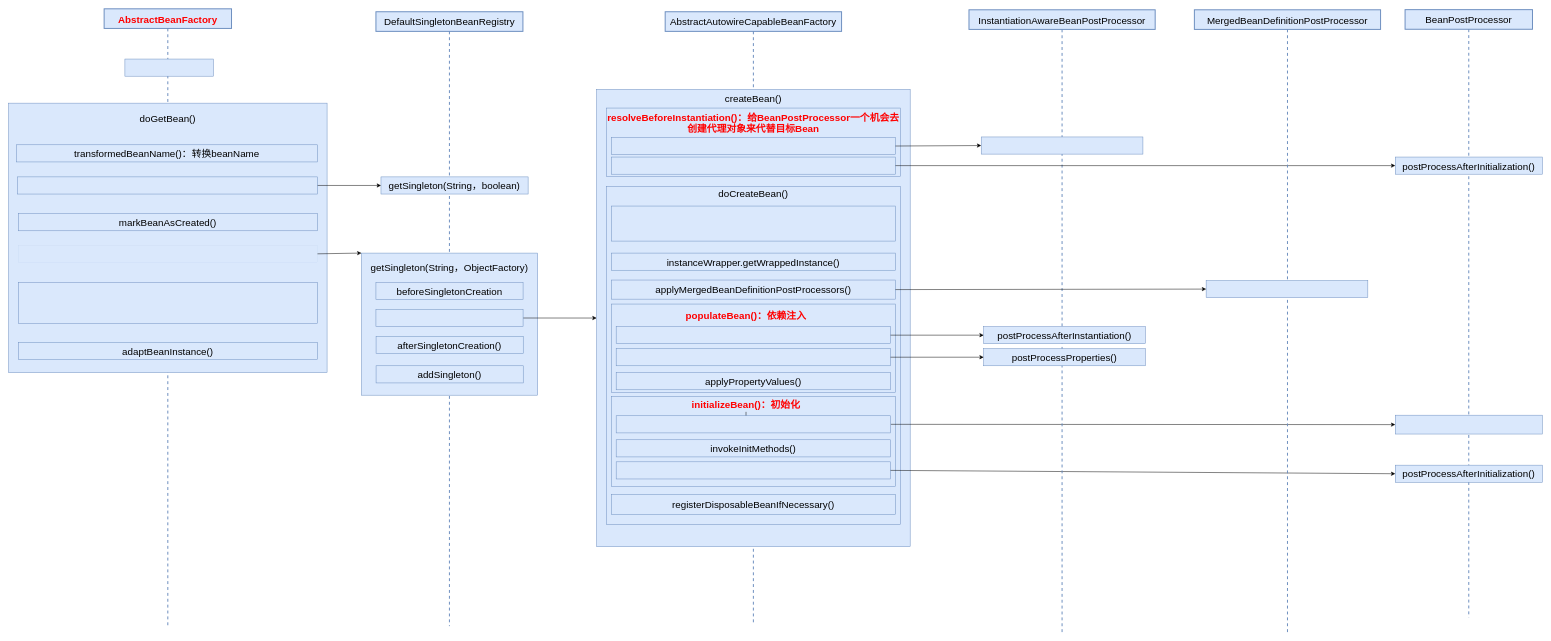
This 1551x641 diagram has some shape labels left out. Each missing label, with the centre of its shape:
applyBeanPostProcessorsAfterInitialization(): the point at 753,165
applyBeanPostProcessorsAfterInitialization()：含代理生成: the point at 753,470
applyBeanPostProcessorsBeforeInitialization(): the point at 753,424
applyBeanPostProcessorsBeforeInstantiation(): the point at 753,146
createBeanInstance()：实例化 存在多种方式创建实例: the point at 753,223
getBean(): the point at 168,67
getObjectForBeanInstance()：确保返回真正目标对象，而不是FactoryBean本身: the point at 167,303
postProcessBeforeInitialization(): the point at 1468,424
postProcessBeforeInstantiation(): the point at 1062,145
postProcessMergedBeanDefinition(): the point at 1287,289
singletonFactory.getObject(): the point at 449,318
尝试从缓存中获取单例Bean: the point at 167,185
